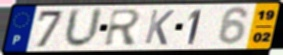1: (187, 9, 202, 46)
6: (215, 5, 252, 48)
7: (36, 9, 64, 49)
K: (142, 8, 177, 47)
R: (102, 8, 144, 48)
U: (62, 7, 105, 50)
